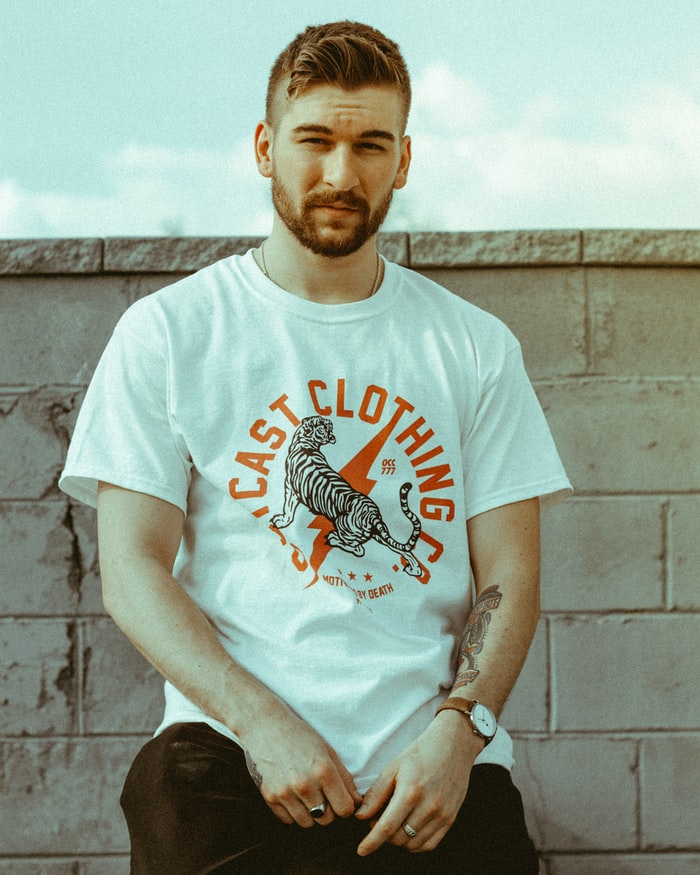beard: (269, 173, 401, 268)
